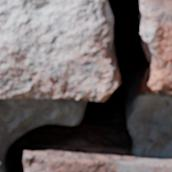brick: (24, 149, 171, 171)
broken_brick: (0, 0, 115, 100), (142, 0, 171, 93)
crack: (2, 0, 169, 171)
